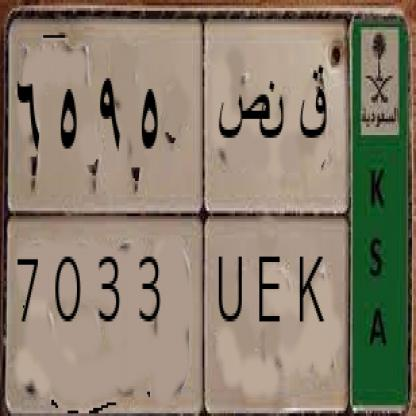english: (3, 197, 354, 416)
